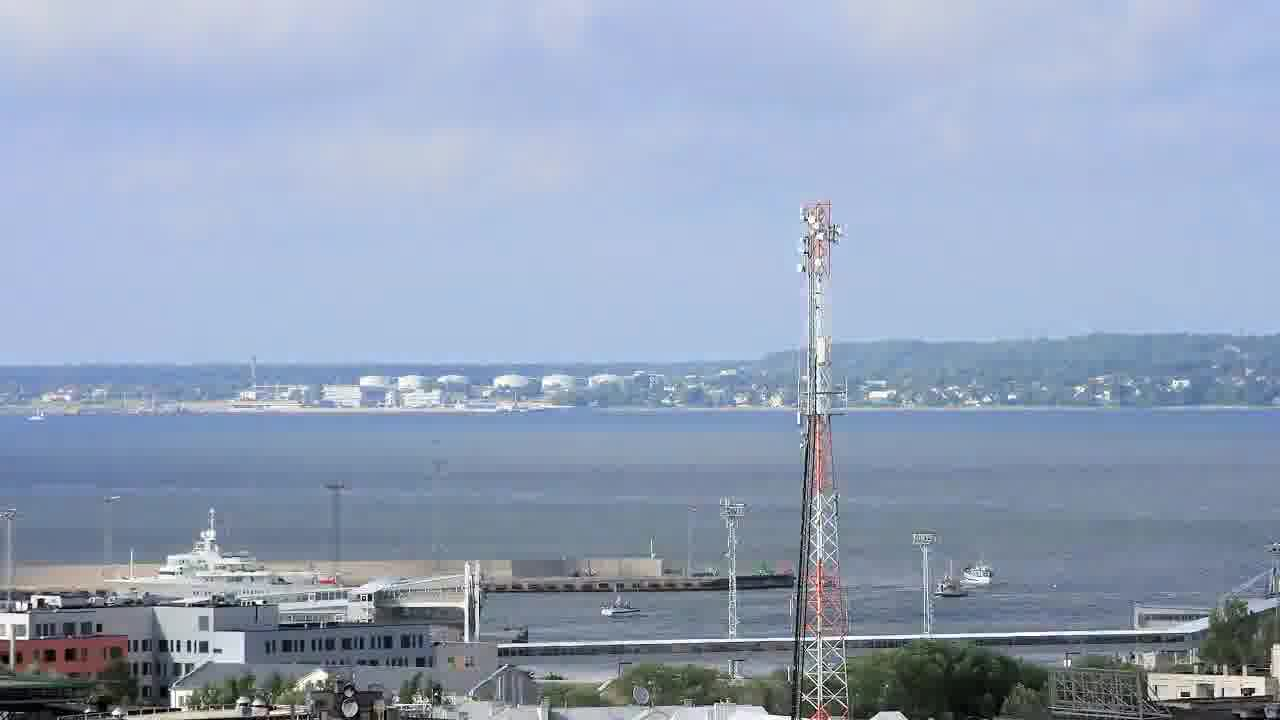type-0: (926, 569, 964, 606)
type-1: (579, 589, 665, 623), (955, 561, 1000, 595)
type-3: (94, 507, 391, 613)
